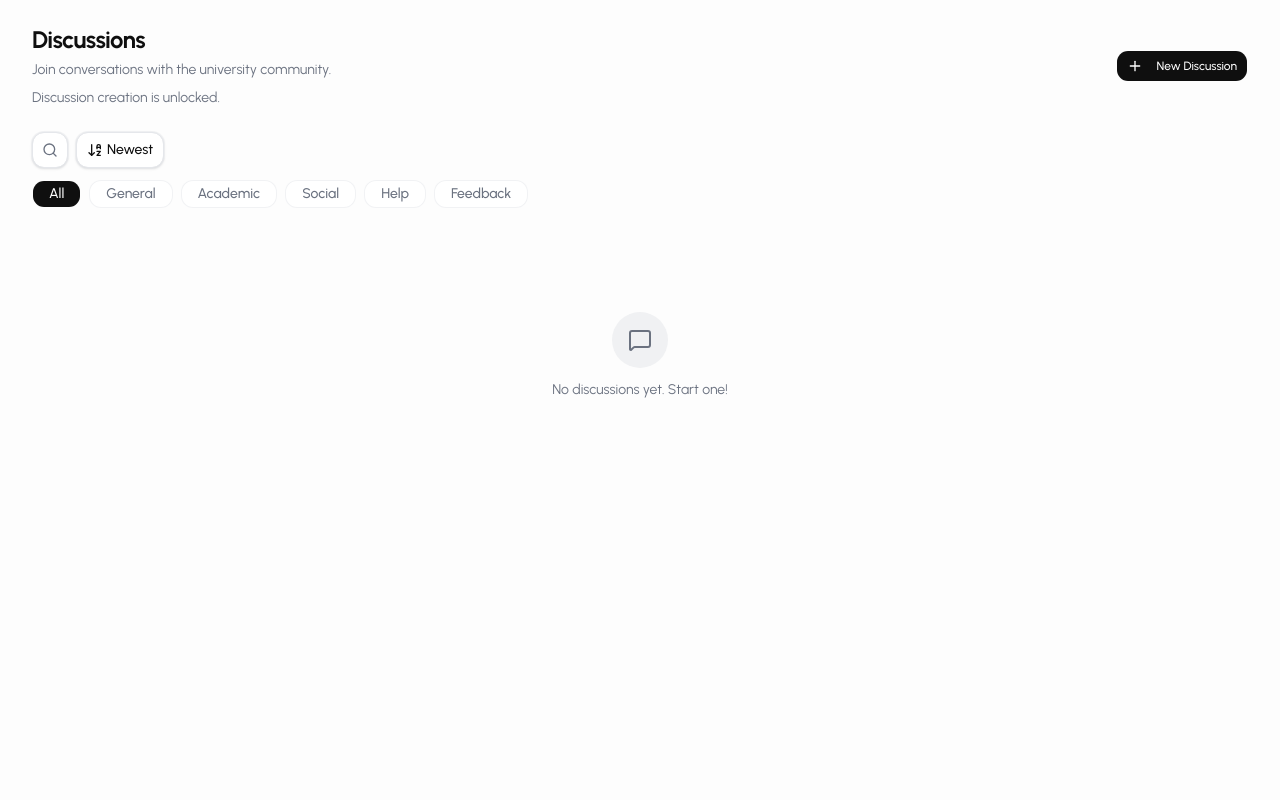
it: discussions route › shows validation errors before posting a discussion
This screenshot has width=1280, height=800.
Click the button "New Discussion".
click(1182, 66)  # box [1116,50,1248,82]
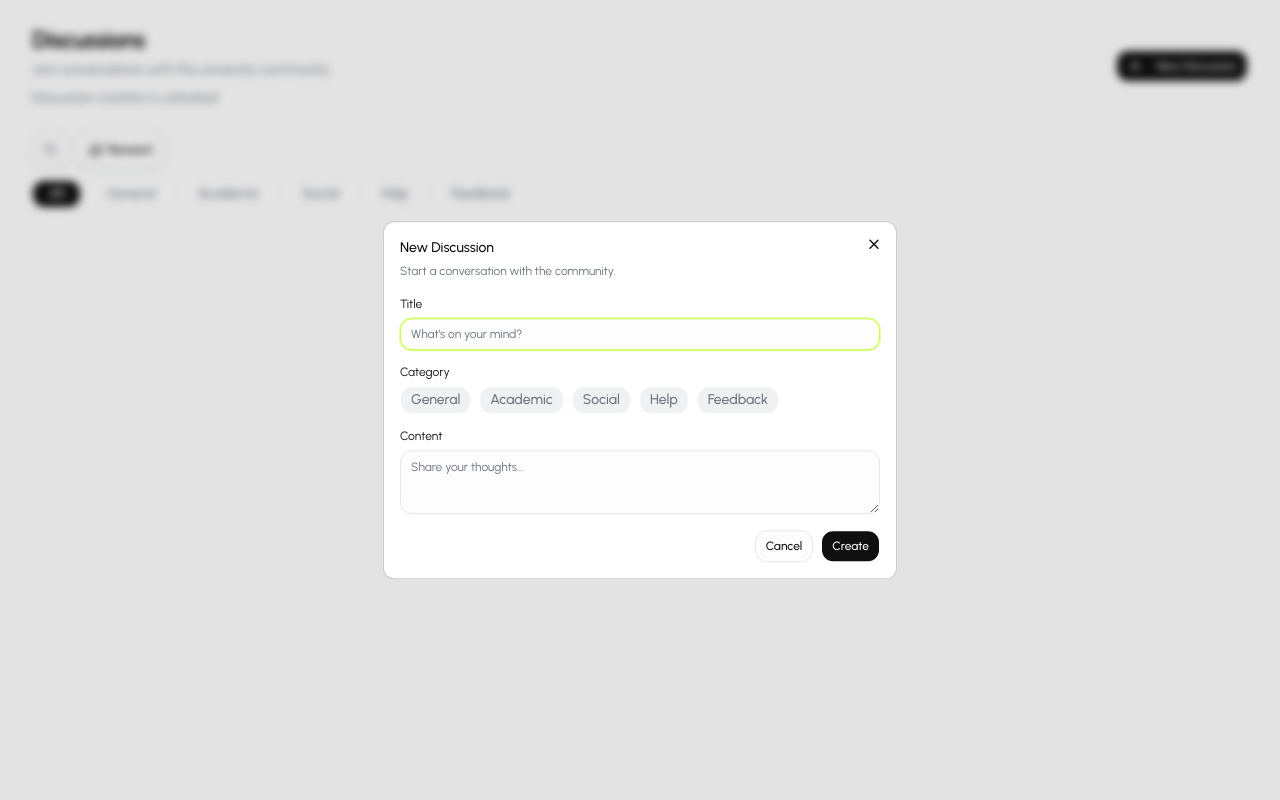
Click the button "Create".
click(851, 546)  # box [821,530,880,562]
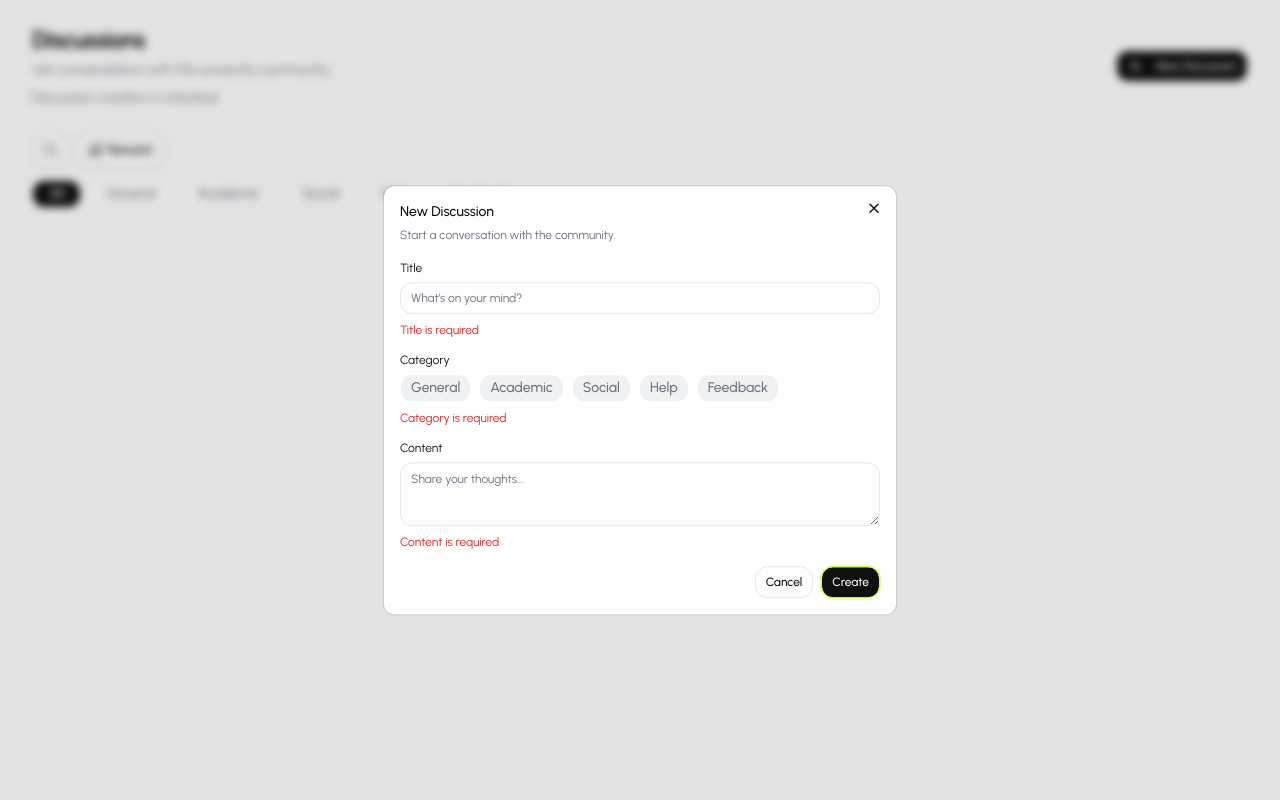
Check: the text "Title is required" is shown, box [400,323,479,337]
Check: the text "Category is required" is shown, box [400,411,507,425]
